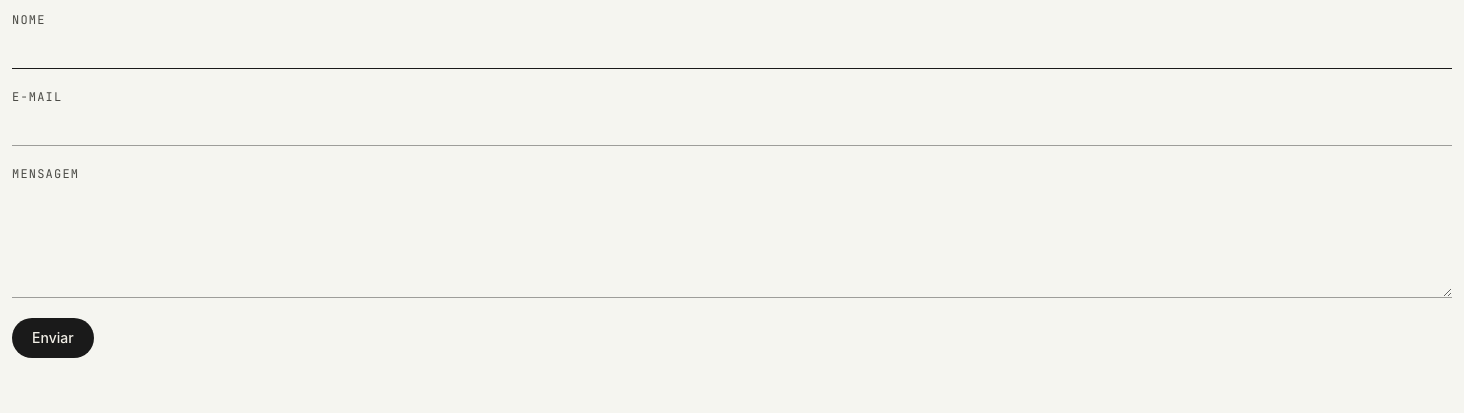
Test case: ContactForm › mostra o erro quando o envio falha, mantendo o que foi digitado
Type "Ana" into the field labelled "Nome".
click(732, 50); type("Ana")  # box [12,32,1452,69]
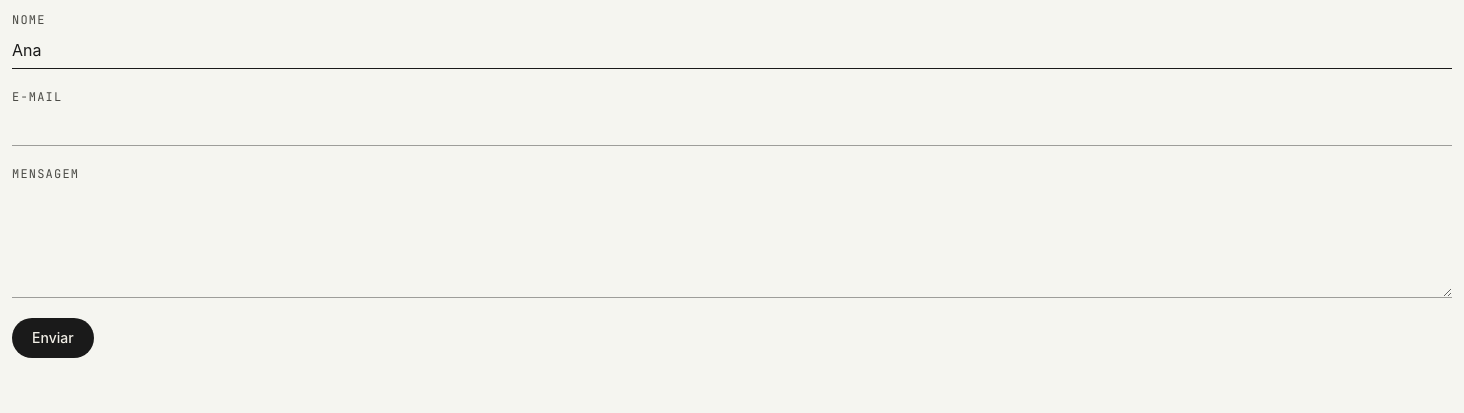
Type "ana@exemplo.com" into the field labelled "E-mail".
click(732, 128); type("ana@exemplo.com")  # box [12,109,1452,146]
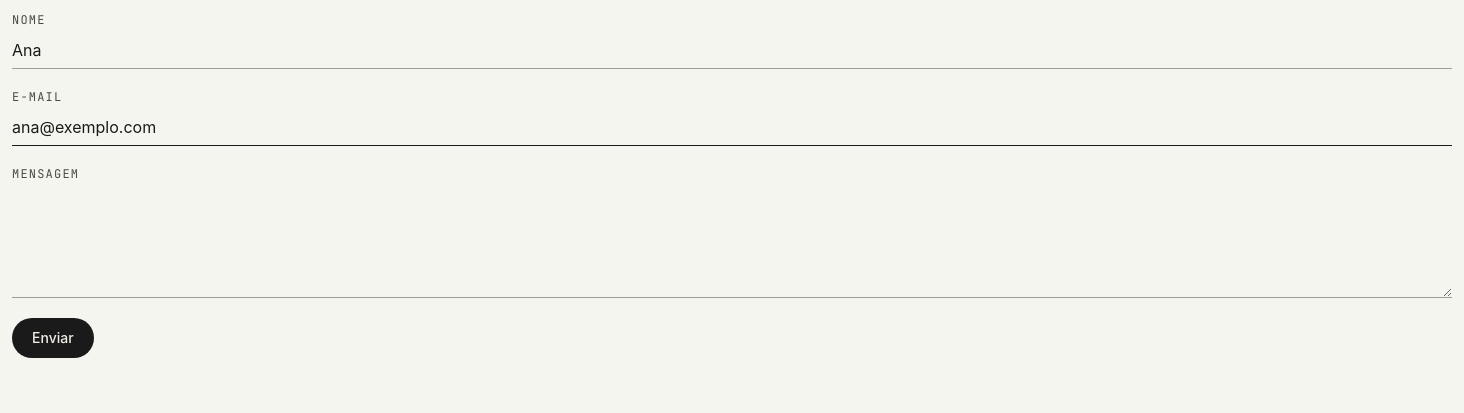
Type "Quero conversar sobre um projeto novo." into the text box labelled "Mensagem".
click(732, 242); type("Quero conversar sobre um projeto novo.")  # box [12,186,1452,298]
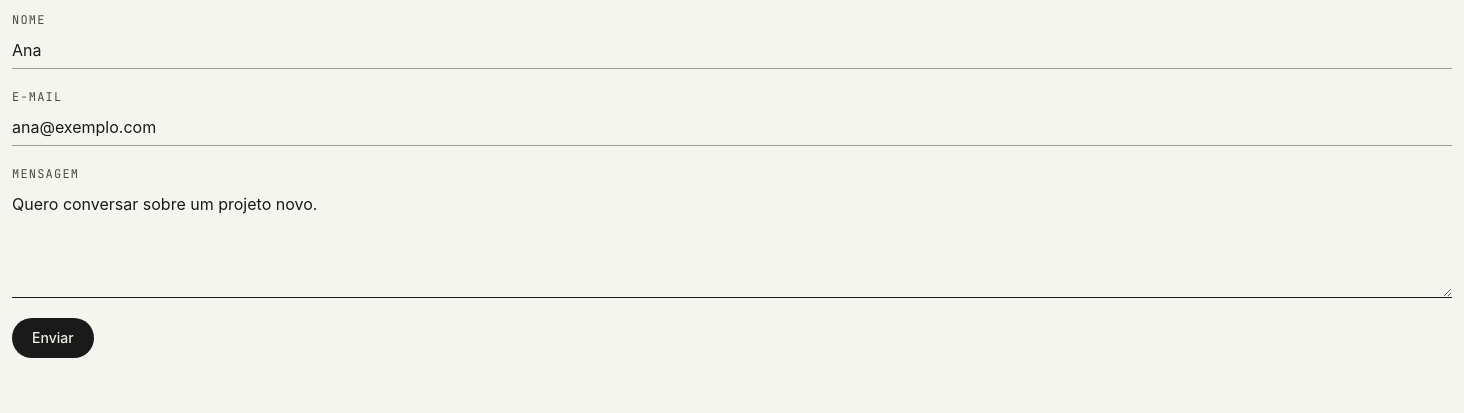
Click the button "Enviar".
click(53, 338)  # box [12,318,94,358]
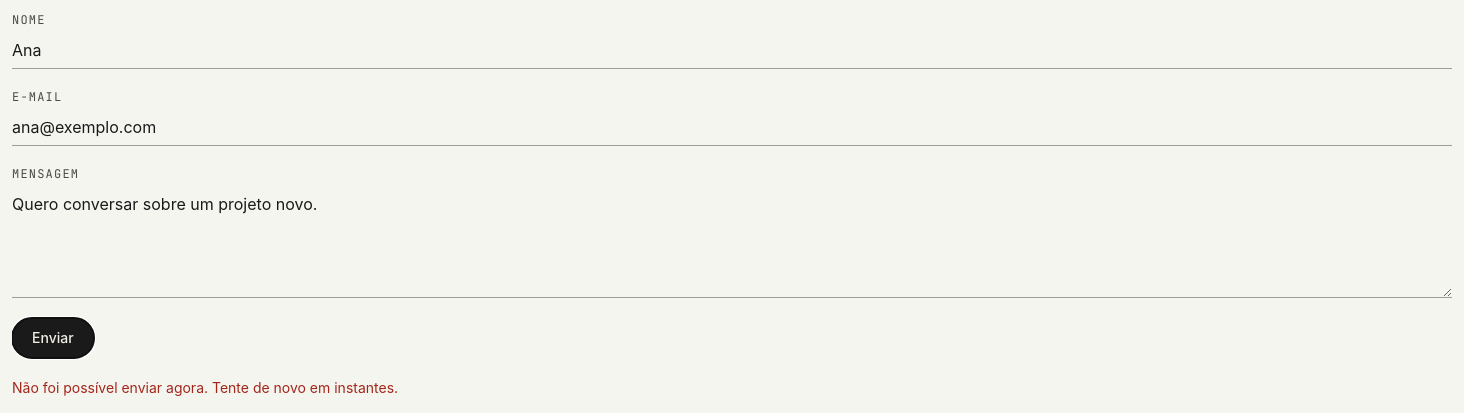
Result: the message reads "Não foi possível enviar agora. Tente de novo em instantes." at [12,379,398,396]
